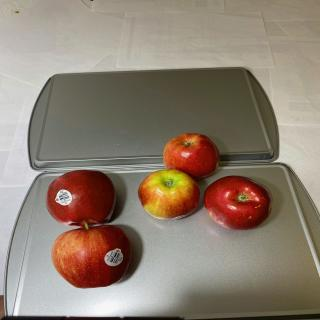Apple: (51, 221, 132, 289), (46, 170, 116, 227), (203, 175, 273, 230), (137, 169, 200, 220), (163, 132, 220, 180)
